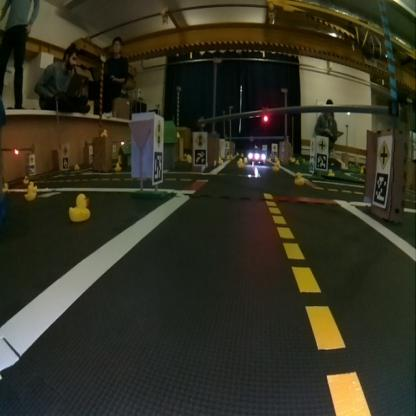Duckie: (69, 195, 89, 219), (25, 186, 35, 200), (295, 172, 304, 184), (272, 164, 278, 171), (238, 160, 244, 166)
Duckiebot: (246, 148, 266, 164)
Intersection sign: (378, 137, 391, 168), (317, 136, 327, 151)
QR code: (373, 172, 387, 206), (155, 152, 162, 181), (315, 154, 327, 170), (194, 149, 205, 164)
Signal sign: (154, 119, 162, 148), (194, 132, 204, 146)
Traffic light: (262, 107, 268, 122)
